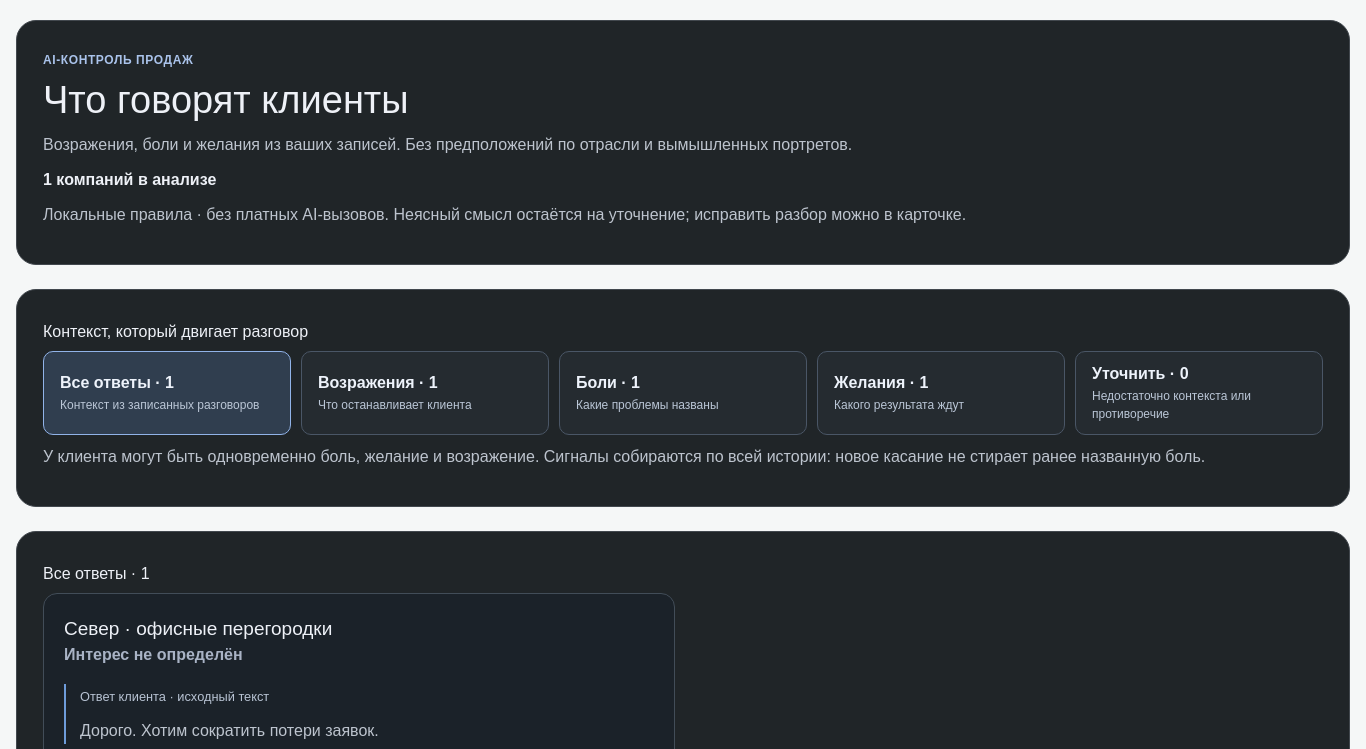
Test case: ManualAiControl — response evidence › filters evidence and exposes an actionable empty state
Click the button "Уточнить · 0 Недостаточно контекста или противоречие".
click(1199, 393)  # box 1075,351 -> 1323,435
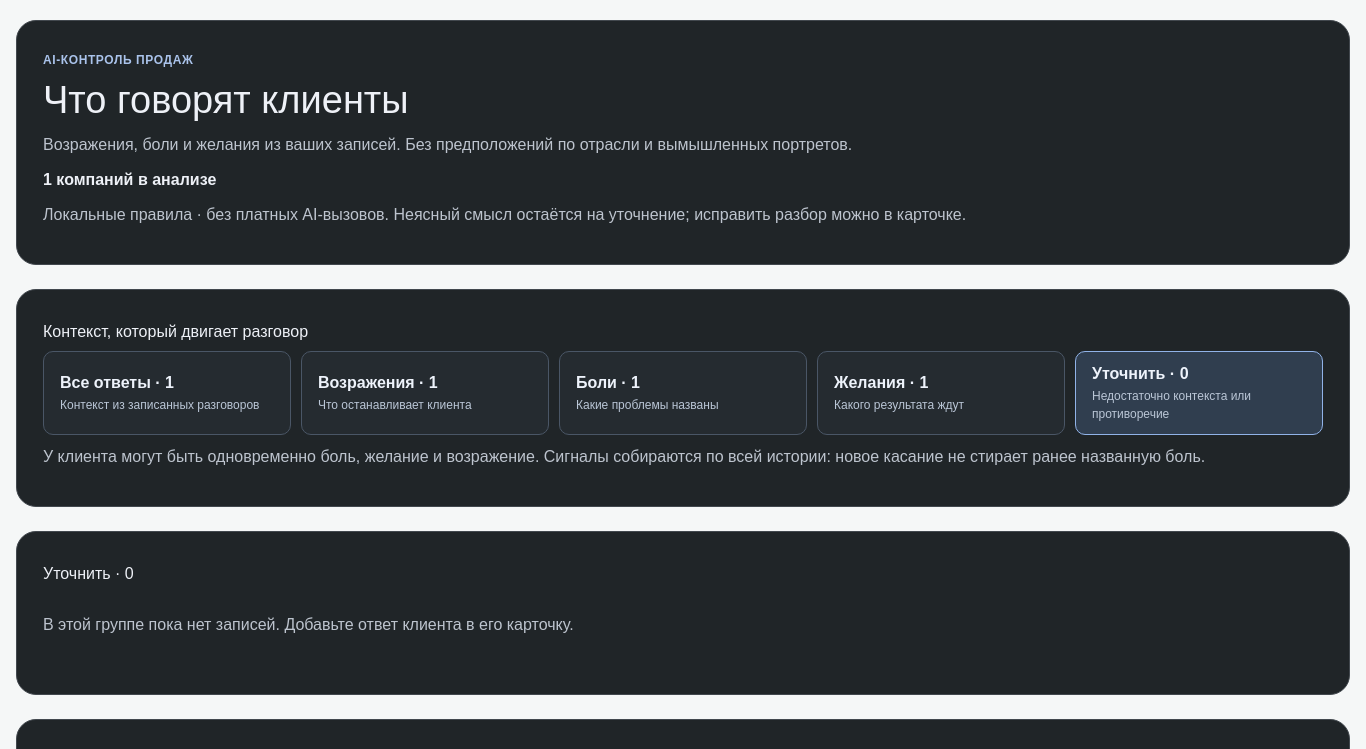
Result: the text "В этой группе пока нет записей" is shown at 43,616 -> 574,633
